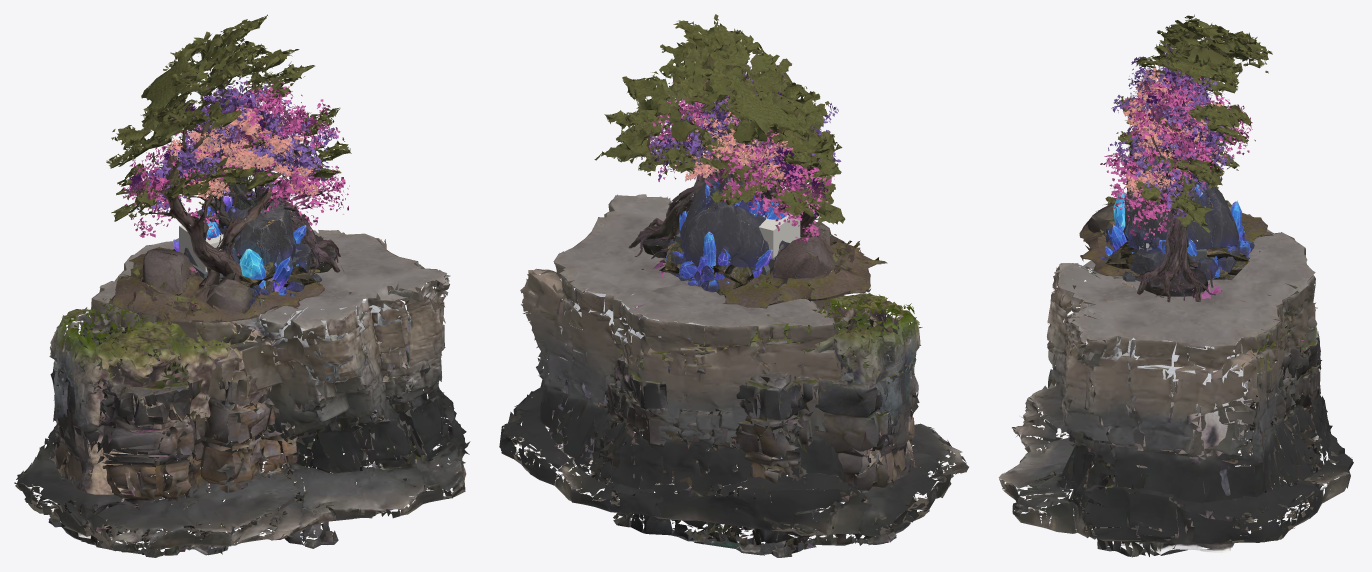
File: scatter-kit.081fb25b8d9a.glb
3 renders of one model, left to right at view 1: azimuth 30°, elevation 25°; view 2: azimuth 150°, elevation 25°; view 3: azimuth 270°, elevation 25°, orthographic.
Visible parts, largest first — view 1: MF_Cliff_A_body, MF_Tree_Bare_A_body, MF_Cliff_C_body, MF_Cliff_B_body, MF_Tree_Purple_D_body, MF_Tree_Purple_C_body, MF_Crystal_C_body, MF_Tree_Purple_A_body, MF_Tree_Purple_B_body, MF_Rock_Shore_B_rock, rover_cab; view 2: MF_Cliff_A_body, MF_Tree_Bare_A_body, MF_Cliff_C_body, MF_Cliff_B_body, MF_Crystal_C_body, MF_Tree_Purple_D_body, MF_Tree_Purple_B_body, MF_Tree_Purple_C_body, MF_Tree_Purple_A_body, MF_Rock_Shore_B_rock, rover_cab; view 3: MF_Cliff_A_body, MF_Tree_Bare_A_body, MF_Cliff_C_body, MF_Crystal_C_body, MF_Tree_Purple_D_body, MF_Tree_Purple_C_body, MF_Tree_Purple_B_body, MF_Cliff_B_body, MF_Tree_Purple_A_body, MF_Rock_Shore_B_rock.
Boxes of the visible parts, x1,y1,x2,y2 form: MF_Cliff_A_body: [14, 230, 470, 551]; MF_Tree_Bare_A_body: [106, 14, 351, 327]; MF_Cliff_C_body: [48, 298, 432, 557]; MF_Cliff_B_body: [49, 298, 422, 538]; MF_Tree_Purple_D_body: [122, 79, 349, 308]; MF_Tree_Purple_C_body: [137, 72, 337, 292]; MF_Crystal_C_body: [173, 185, 321, 308]; MF_Tree_Purple_A_body: [159, 107, 319, 208]; MF_Tree_Purple_B_body: [125, 94, 340, 273]; MF_Rock_Shore_B_rock: [173, 249, 316, 301]; rover_cab: [179, 225, 234, 272]; MF_Cliff_A_body: [499, 194, 968, 536]; MF_Tree_Bare_A_body: [594, 14, 887, 308]; MF_Cliff_C_body: [589, 260, 919, 557]; MF_Cliff_B_body: [549, 288, 922, 521]; MF_Crystal_C_body: [665, 175, 807, 292]; MF_Tree_Purple_D_body: [646, 79, 834, 276]; MF_Tree_Purple_B_body: [628, 92, 827, 258]; MF_Tree_Purple_C_body: [641, 66, 841, 287]; MF_Tree_Purple_A_body: [685, 103, 804, 181]; MF_Rock_Shore_B_rock: [659, 238, 758, 295]; rover_cab: [744, 214, 800, 257]; MF_Cliff_A_body: [998, 206, 1353, 544]; MF_Tree_Bare_A_body: [1079, 14, 1273, 281]; MF_Cliff_C_body: [1029, 272, 1323, 557]; MF_Crystal_C_body: [1101, 179, 1254, 285]; MF_Tree_Purple_D_body: [1100, 73, 1252, 245]; MF_Tree_Purple_C_body: [1108, 43, 1232, 279]; MF_Tree_Purple_B_body: [1137, 52, 1215, 302]; MF_Cliff_B_body: [1101, 200, 1252, 554]; MF_Tree_Purple_A_body: [1123, 67, 1223, 197]; MF_Rock_Shore_B_rock: [1105, 219, 1253, 279].
Size of the model in its own units: 14.59 by 16.49 by 11.41.
24 materials, 18 textured.
